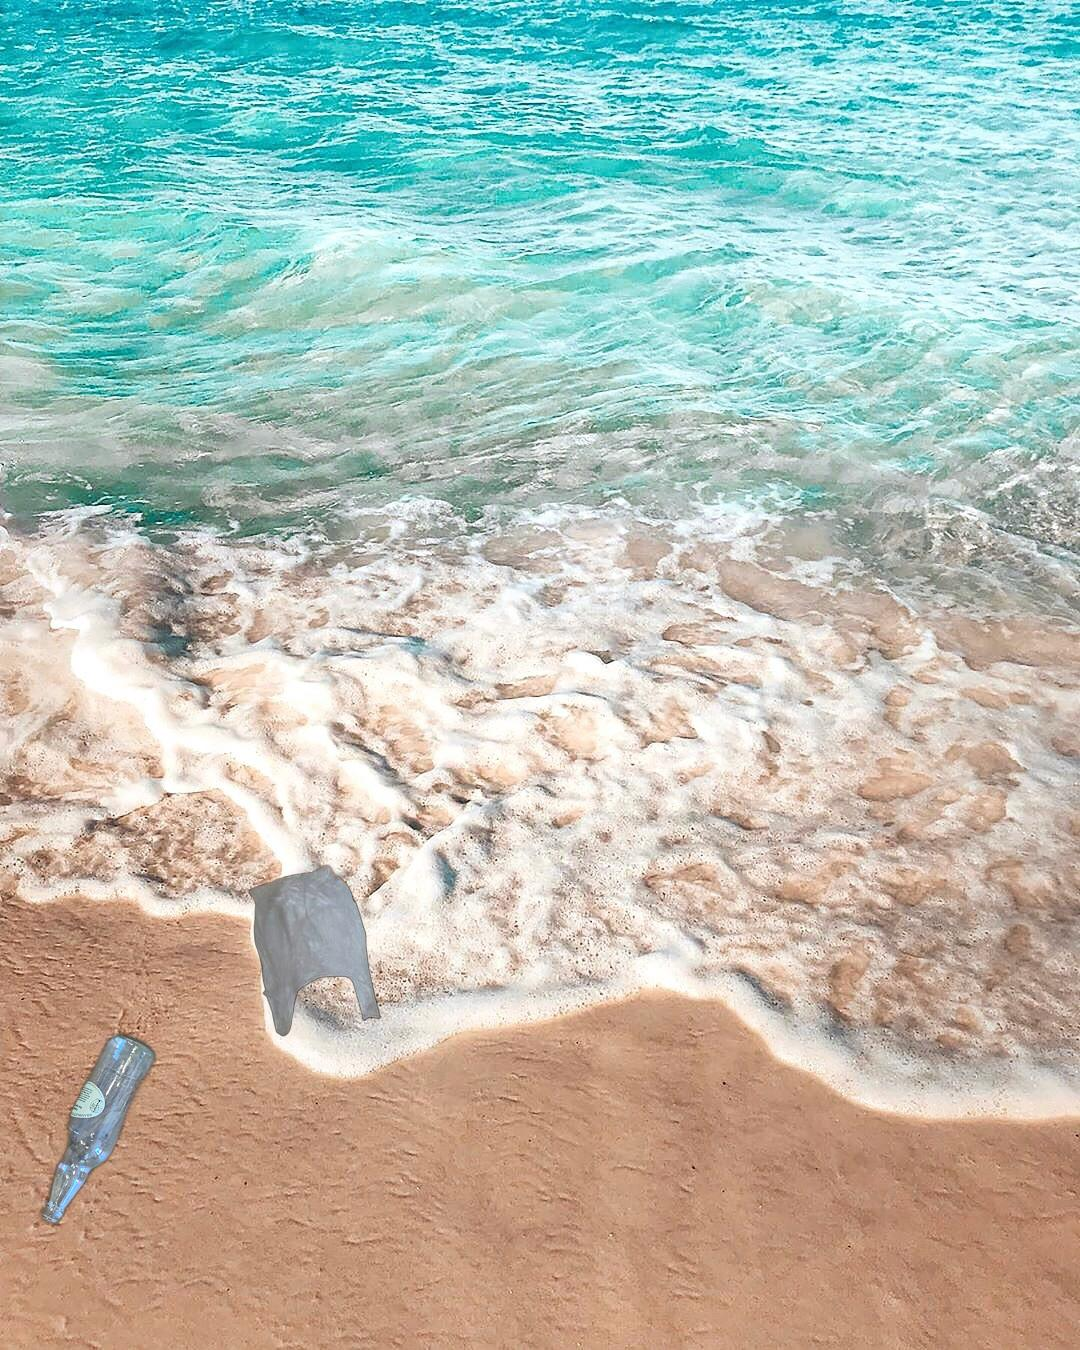glass: (35, 1028, 159, 1231)
plastic-bag: (248, 862, 382, 1039)
